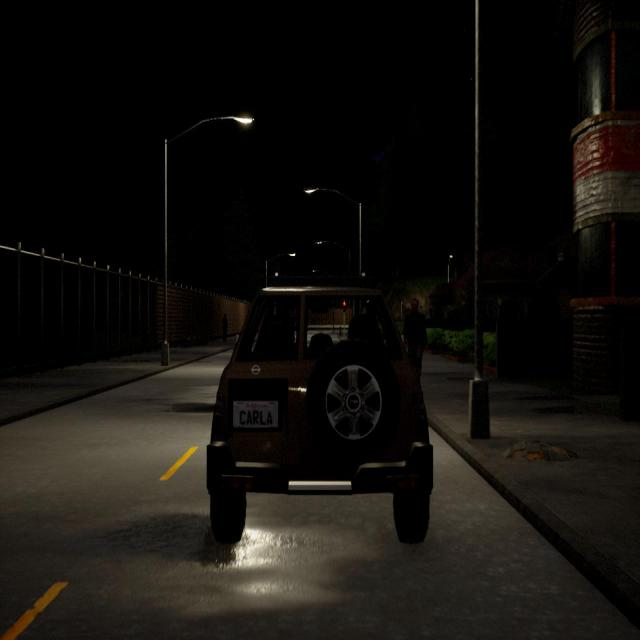Pedestrian: (402, 298, 427, 374), (220, 314, 230, 345)
Vehicle: (206, 286, 432, 542)
traffic_light: (342, 296, 347, 314)
